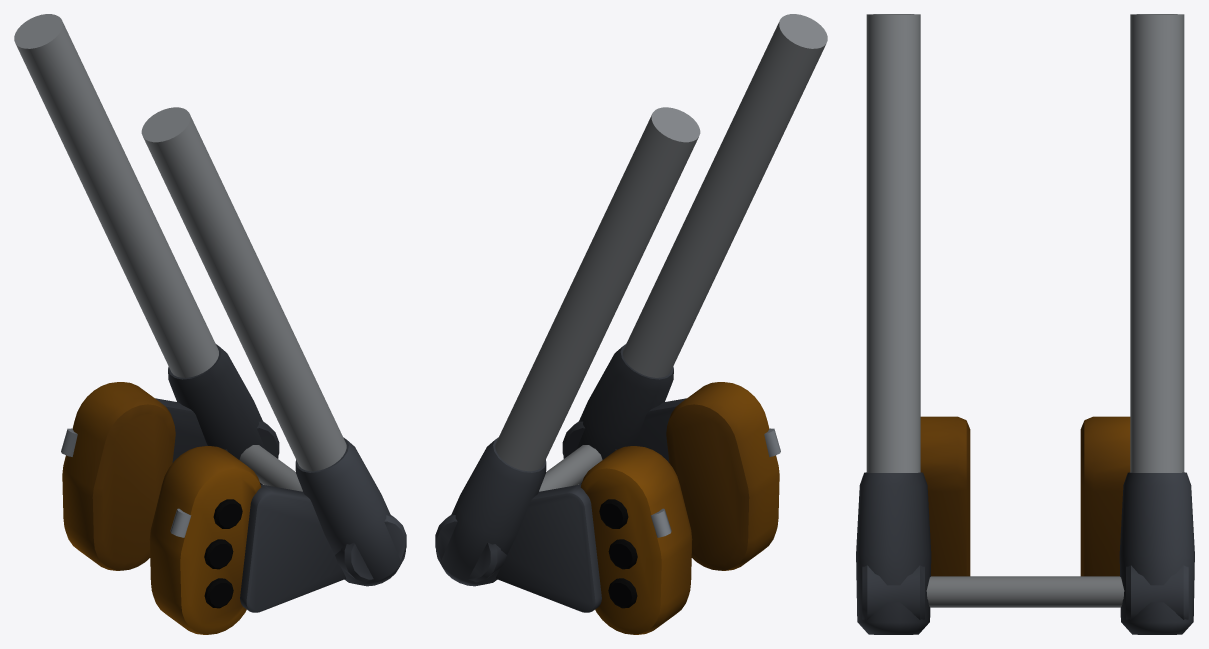
File: bike_duetto_fork.glb
The picture shows the model from 3 angles, left to right: view 1: azimuth 30°, elevation 25°; view 2: azimuth 150°, elevation 25°; view 3: azimuth 270°, elevation 25°; orthographic projection. The views are drawn at different scales.
Parts seen in each view (by area): view 1: bk_forkS1, bk_forkS-1, bk_caliperF-1, bk_caliperF1, bk_callug1, bk_forkfoot1, bk_forkfoot-1, bk_axleF, bk_axleboss1, bk_callug-1, bk_calpist1_173, bk_calpist1_158 (+1 smaller); view 2: bk_forkS-1, bk_forkS1, bk_caliperF1, bk_caliperF-1, bk_callug-1, bk_forkfoot-1, bk_forkfoot1, bk_axleF, bk_axleboss-1, bk_callug1, bk_calpist-1_173, bk_calpist-1_158 (+1 smaller); view 3: bk_forkS1, bk_forkS-1, bk_forkfoot1, bk_forkfoot-1, bk_caliperF1, bk_caliperF-1, bk_axleF, bk_axleboss1, bk_axleboss-1.
Boxes of the visible parts, left/top/right/bottom form: bk_forkS1: left=141, top=107, right=346, bottom=471; bk_forkS-1: left=14, top=14, right=218, bottom=377; bk_caliperF-1: left=62, top=382, right=175, bottom=570; bk_caliperF1: left=149, top=446, right=261, bottom=634; bk_callug1: left=240, top=485, right=346, bottom=612; bk_forkfoot1: left=295, top=437, right=405, bottom=586; bk_forkfoot-1: left=168, top=344, right=278, bottom=484; bk_axleF: left=239, top=445, right=302, bottom=491; bk_axleboss1: left=335, top=514, right=406, bottom=582; bk_callug-1: left=155, top=398, right=207, bottom=462; bk_calpist1_173: left=204, top=539, right=233, bottom=569; bk_calpist1_158: left=213, top=499, right=242, bottom=528; bk_forkS-1: left=495, top=107, right=700, bottom=471; bk_forkS1: left=623, top=14, right=827, bottom=377; bk_caliperF1: left=666, top=382, right=779, bottom=570; bk_caliperF-1: left=580, top=446, right=692, bottom=634; bk_callug-1: left=495, top=485, right=601, bottom=612; bk_forkfoot-1: left=436, top=437, right=546, bottom=586; bk_forkfoot1: left=563, top=344, right=673, bottom=484; bk_axleF: left=539, top=445, right=602, bottom=491; bk_axleboss-1: left=435, top=514, right=506, bottom=582; bk_callug1: left=634, top=398, right=686, bottom=462; bk_calpist-1_173: left=608, top=539, right=637, bottom=569; bk_calpist-1_158: left=599, top=499, right=628, bottom=528; bk_forkS1: left=866, top=14, right=920, bottom=472; bk_forkS-1: left=1130, top=14, right=1184, bottom=472; bk_forkfoot1: left=856, top=472, right=931, bottom=634; bk_forkfoot-1: left=1119, top=472, right=1194, bottom=634; bk_caliperF1: left=920, top=416, right=970, bottom=576; bk_caliperF-1: left=1080, top=416, right=1130, bottom=576; bk_axleF: left=926, top=576, right=1124, bottom=607; bk_axleboss1: left=862, top=565, right=924, bottom=619; bk_axleboss-1: left=1126, top=565, right=1188, bottom=619.
Bounding box in the file's own units: 0.2426 × 0.4896 × 0.27.
